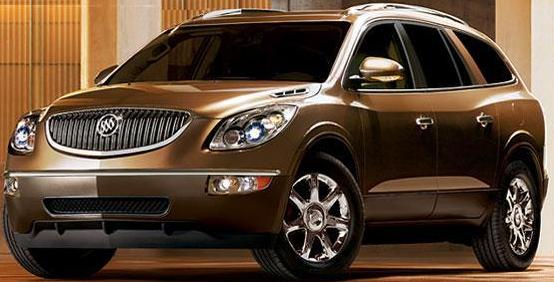front_view: (7, 95, 299, 248)
headlight: (198, 101, 305, 158)
side_glass: (353, 16, 518, 95)
